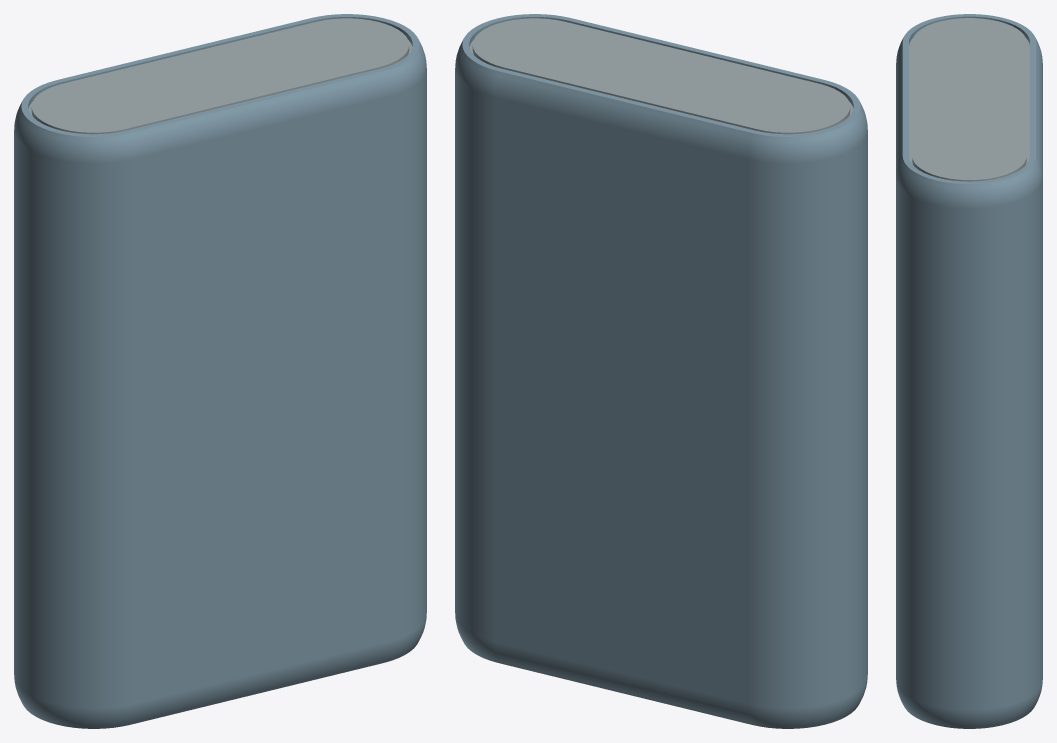
Rendered from AnkerPowerCore10000.glb.
3 renders of one model, left to right at view 1: azimuth 30°, elevation 25°; view 2: azimuth 150°, elevation 25°; view 3: azimuth 270°, elevation 25°, orthographic. The views are drawn at different scales.
Parts seen in each view (by area): view 1: 004697_A;2-Case10000_top, 004696_A;2-Case10000_btm; view 2: 004696_A;2-Case10000_btm, 004697_A;2-Case10000_top; view 3: 004696_A;2-Case10000_btm, 004697_A;2-Case10000_top.
Boxes of the visible parts, <box> form: 004697_A;2-Case10000_top: <box>24,29,426,728</box>; 004696_A;2-Case10000_btm: <box>14,14,412,712</box>; 004696_A;2-Case10000_btm: <box>455,18,857,728</box>; 004697_A;2-Case10000_top: <box>472,14,867,712</box>; 004696_A;2-Case10000_btm: <box>909,14,1042,728</box>; 004697_A;2-Case10000_top: <box>896,14,969,728</box>.
Size of the model in its own units: 0.0629 by 0.0909 by 0.0222.
